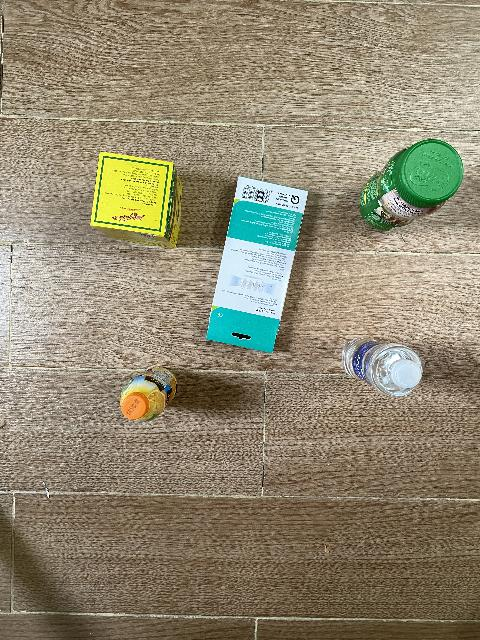4D_medical_face-mask: (206, 177, 308, 354)
aquafina: (341, 338, 423, 399)
luong_kho: (90, 152, 183, 249)
milo: (359, 139, 464, 232)
teppy_orange_juice: (120, 367, 177, 423)
